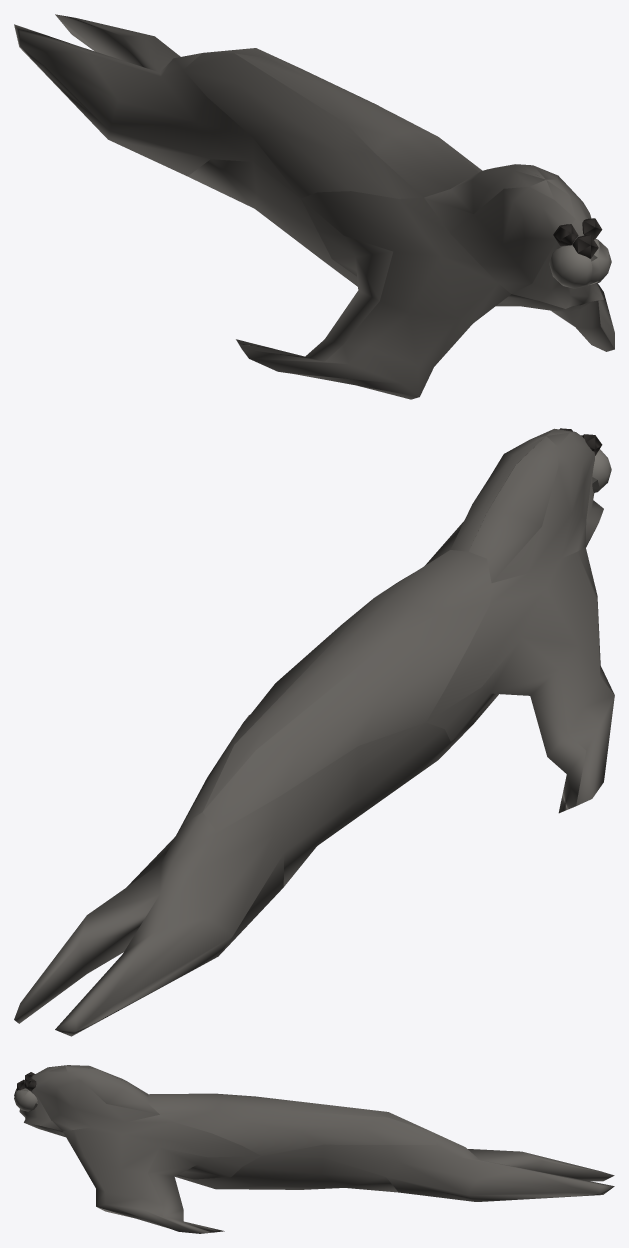
Rendered from FrsSeehund_Bulle.gltf.
3 views of the same model, one above another, from view 1: azimuth 30°, elevation 25°; view 2: azimuth 150°, elevation 25°; view 3: azimuth 270°, elevation 25° (orthographic). The views are drawn at different scales.
Visible parts, largest first — view 1: FrsSeehund_Bulle; view 2: FrsSeehund_Bulle; view 3: FrsSeehund_Bulle.
Part boxes in pixels (x1=…): FrsSeehund_Bulle: x1=14, y1=14, x2=614, y2=399; FrsSeehund_Bulle: x1=14, y1=428, x2=614, y2=1036; FrsSeehund_Bulle: x1=14, y1=1065, x2=614, y2=1233.
Size of the model in its own units: 0.6377 by 0.4086 by 1.8.
